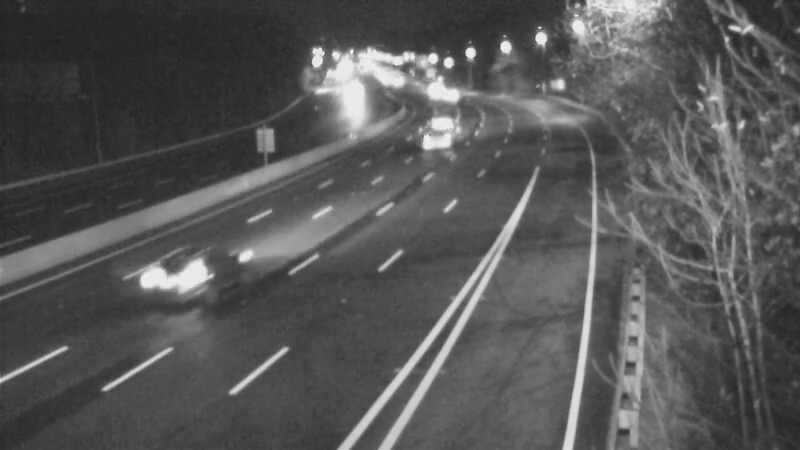vehicle: (136, 233, 216, 313), (414, 63, 464, 113), (425, 72, 475, 122), (411, 105, 461, 155), (326, 71, 376, 121)
